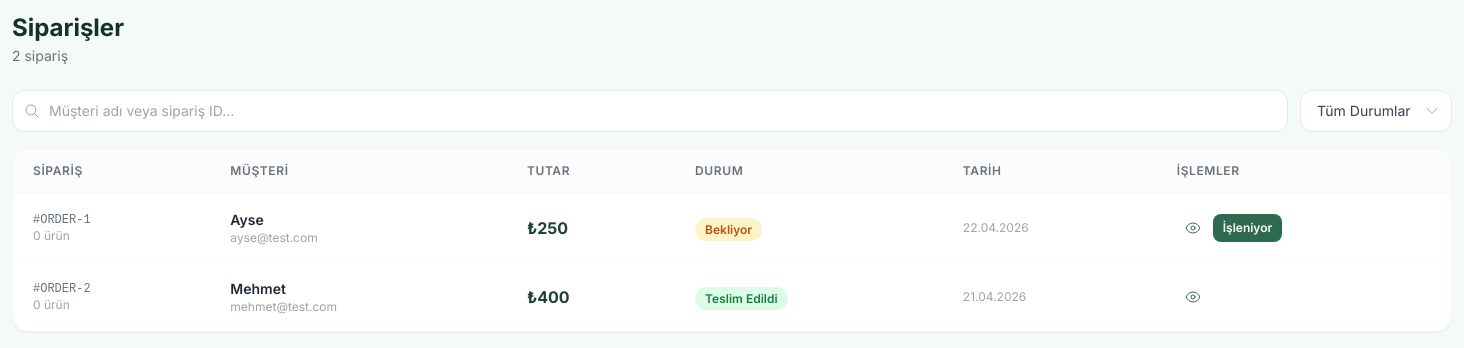
Test case: Seller Orders › filters orders by search query
Expected: the text "Ayse" is shown, 230,211 -> 264,228
Expected: the text "Mehmet" is shown, 230,280 -> 286,297
Type "Mehmet" into the field at (650, 111), box 12,90 -> 1288,132
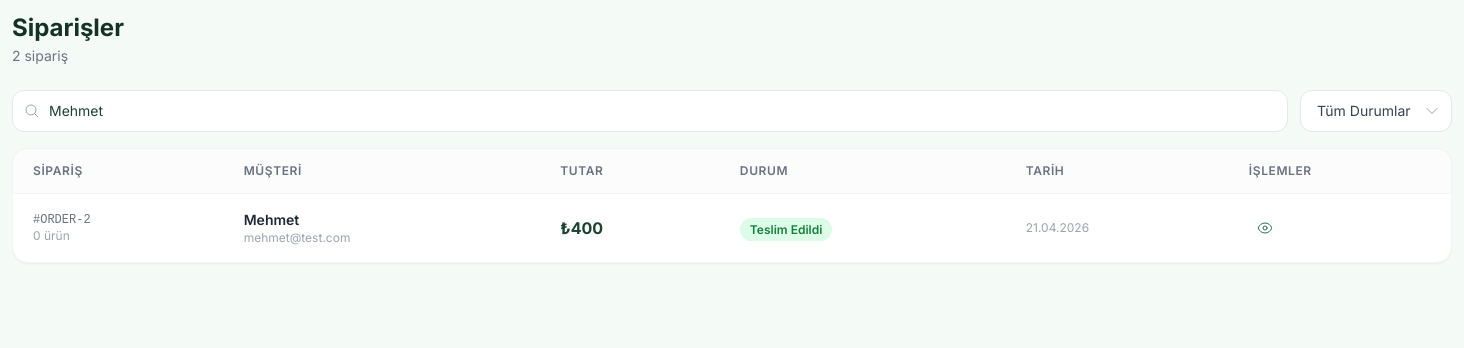
Expected: the text "Mehmet" is shown, 244,211 -> 299,228
Expected: the text "Ayse" is gone
